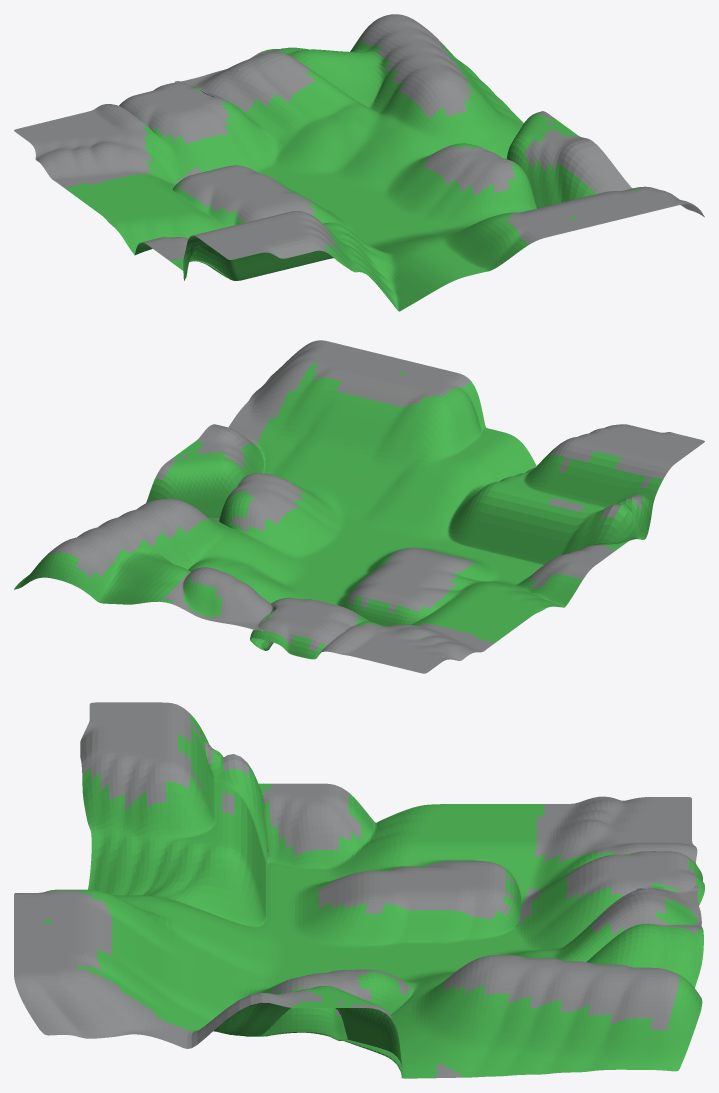
Rendered from ground, bergen.fbx.
3 renders of one model, top to bottom at view 1: azimuth 30°, elevation 25°; view 2: azimuth 150°, elevation 25°; view 3: azimuth 270°, elevation 25°, orthographic. The views are drawn at different scales.
Visible parts, largest first — view 1: Plane.001; view 2: Plane.001; view 3: Plane.001.
Part boxes in pixels (x1=…): Plane.001: x1=14, y1=14, x2=704, y2=311; Plane.001: x1=14, y1=340, x2=704, y2=673; Plane.001: x1=14, y1=702, x2=704, y2=1078.
Bounding box in the file's own units: 3869 × 764 × 4191.
